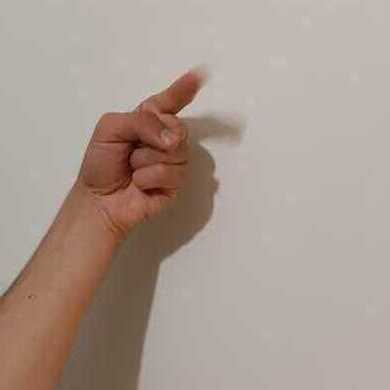Z: (75, 58, 222, 233)
